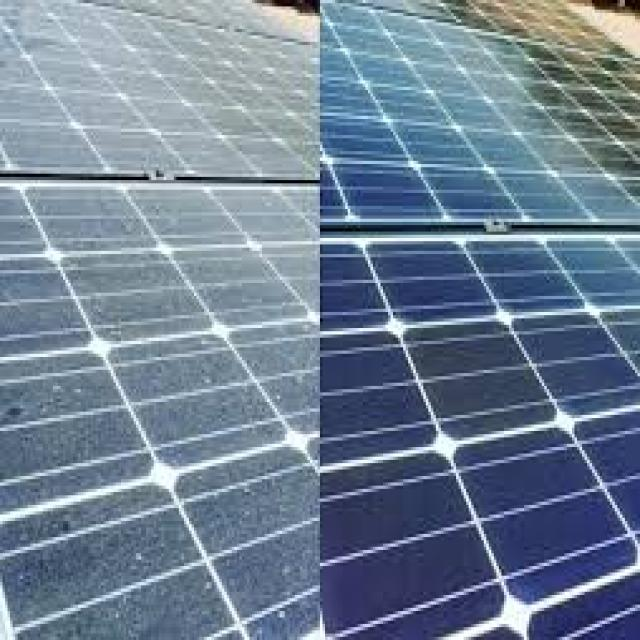clean-solar-panel: (324, 3, 640, 637)
